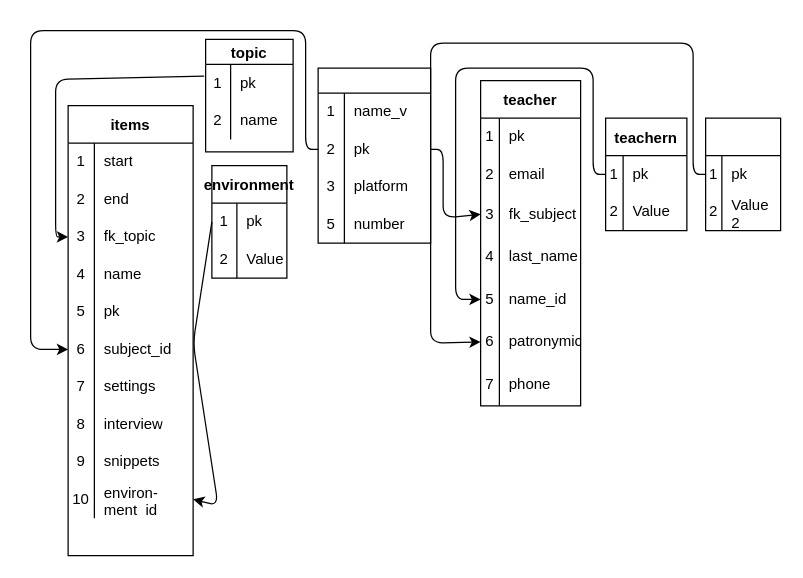
The diagram is 803 pixels wide and 578 high, and some of its shapes have lost their labels. The box of each missing label's shape, as (x1, y1, x2, y2) in pixels:
subject: (317, 67, 431, 243)
teacherp: (704, 117, 781, 231)
